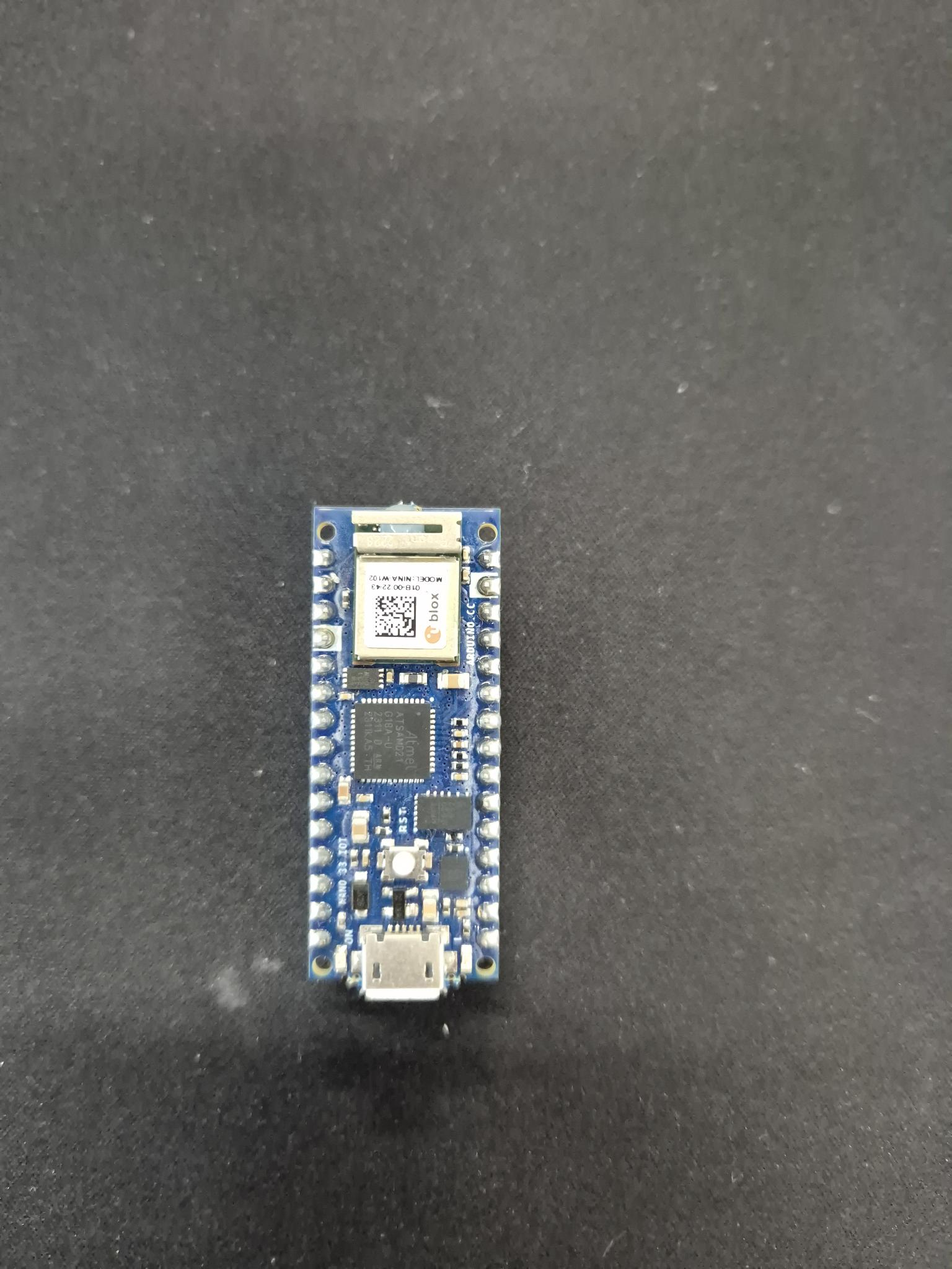arduino-nano-iot-33: (308, 503, 501, 1001)
